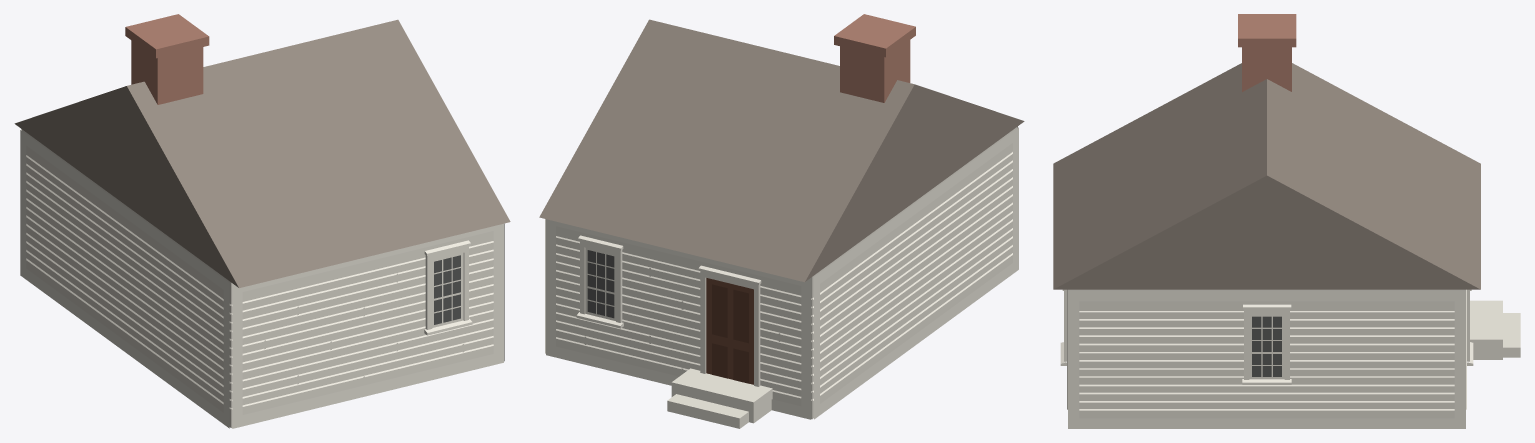
The model's file is recon_1835_blk_lake_market_d3_03__inferred_1835.glb.
The picture shows the model from 3 angles, left to right: view 1: azimuth 30°, elevation 25°; view 2: azimuth 150°, elevation 25°; view 3: azimuth 270°, elevation 25°; orthographic projection. The views are drawn at different scales.
Parts seen in each view (by area): view 1: recon_1835_blk_lake_market_d3_03__inferred_1835; view 2: recon_1835_blk_lake_market_d3_03__inferred_1835; view 3: recon_1835_blk_lake_market_d3_03__inferred_1835.
Boxes of the visible parts, <box> form: recon_1835_blk_lake_market_d3_03__inferred_1835: <box>14,14,510,428</box>; recon_1835_blk_lake_market_d3_03__inferred_1835: <box>539,14,1024,428</box>; recon_1835_blk_lake_market_d3_03__inferred_1835: <box>1053,14,1520,428</box>.
Bounding box in the file's own units: 5.16 × 5.47 × 7.86.
